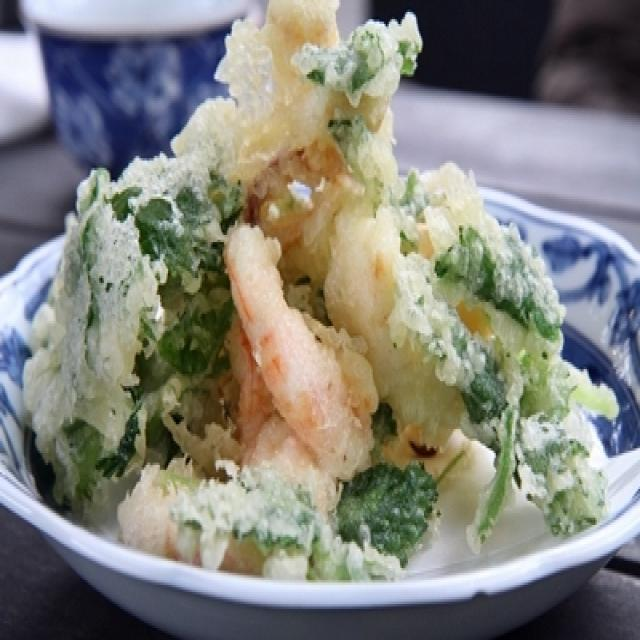蔬菜料理: (0, 0, 640, 592)
